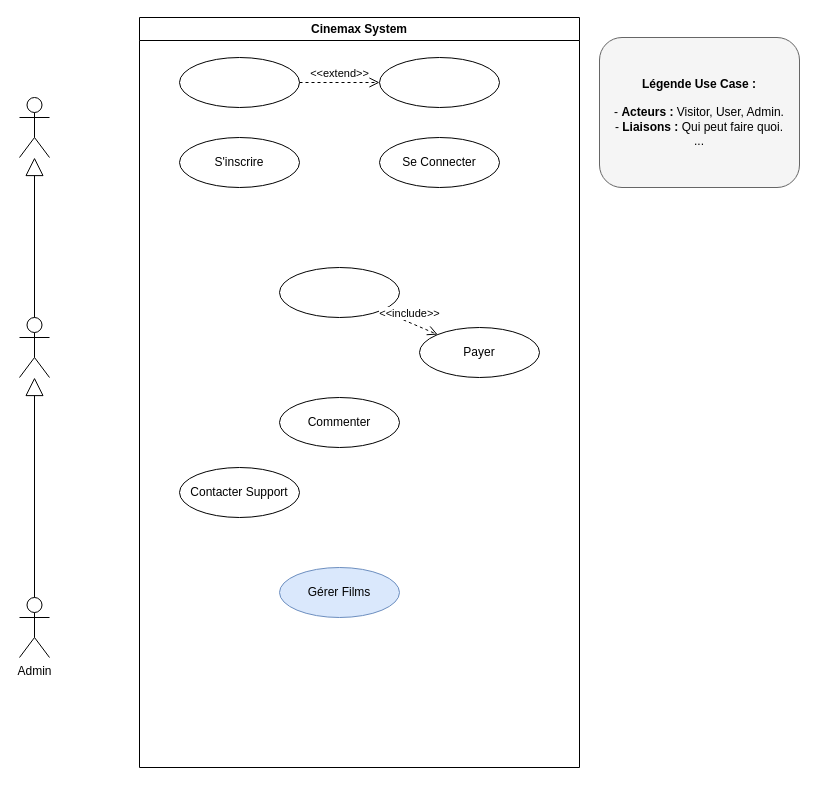
Image size: 817x785. Some labels were removed from this diagram. The shapes that lost their labels are listed below. From the top down, each one's centre as x and y in pixels, then its label:
point (239, 82): Rechercher
point (439, 82): Voir Catalogue
point (34, 127): Visitor
point (339, 292): Réserver Séance
point (34, 347): User
